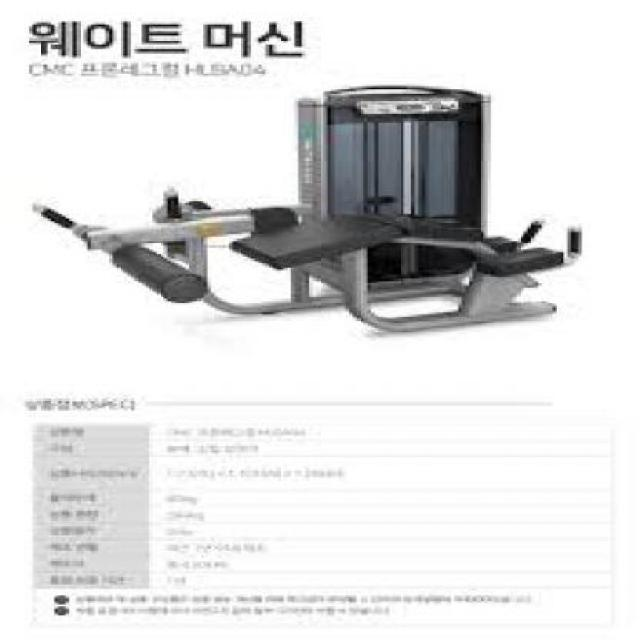reg curl machine: (22, 82, 584, 336)
